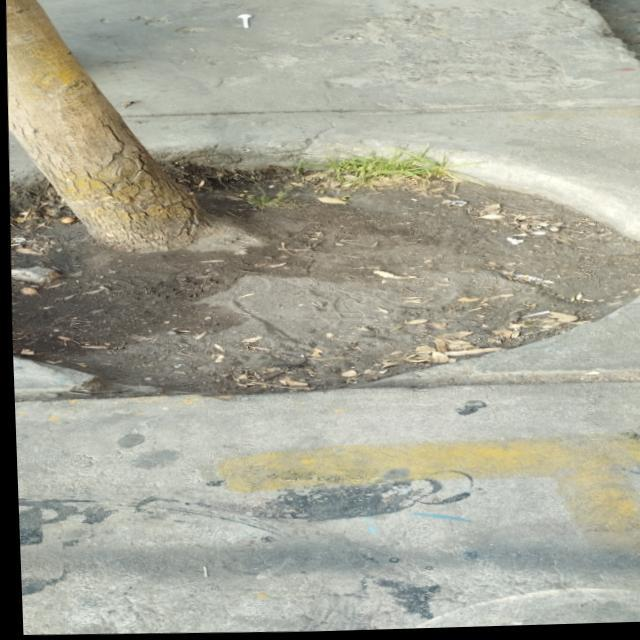hole: (4, 131, 640, 407)
